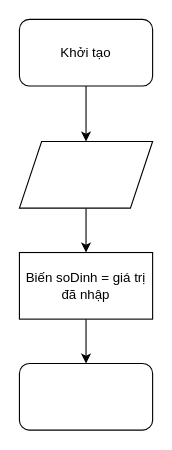
Some shapes in this 172 by 450 pixel diagram are drawn without their labels. The shapes that lost their labels are listed below. From the top down, each one's centre as x and y in pixels, then its label:
[85,174]: Nhập số đỉnh
[85,396]: Kết thúc
